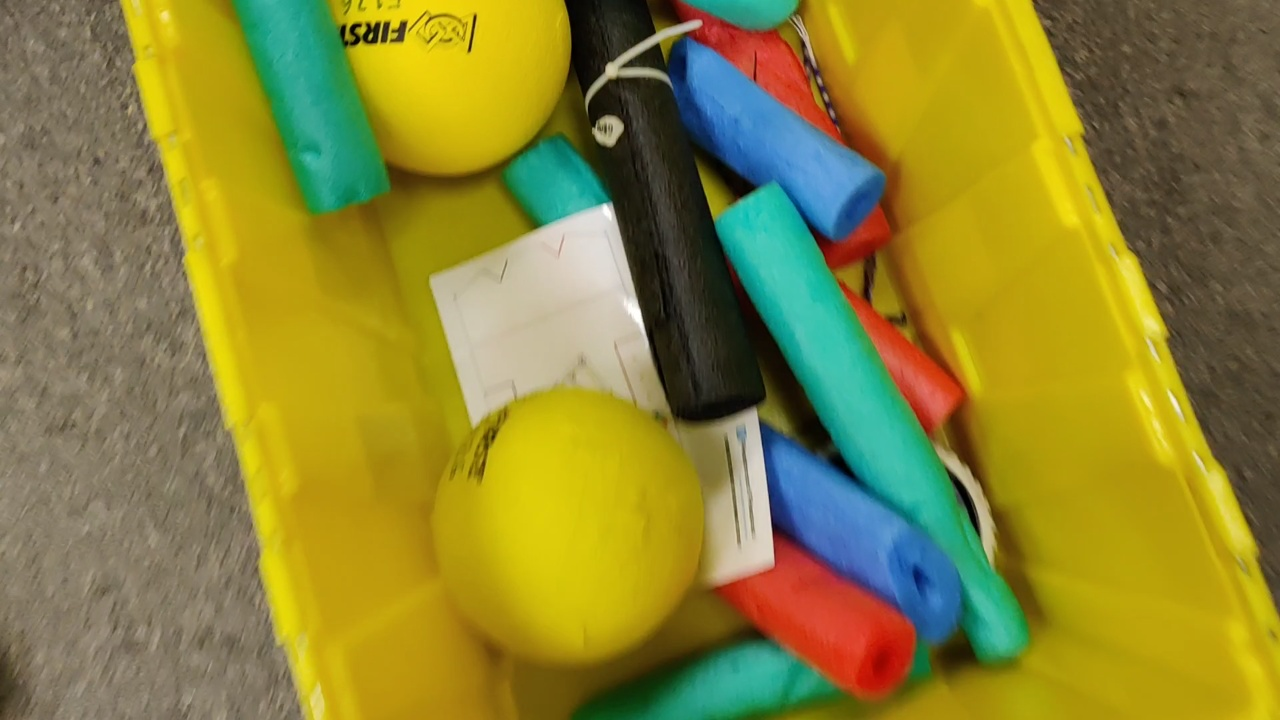Ball: (434, 387, 702, 665), (328, 1, 573, 177)
